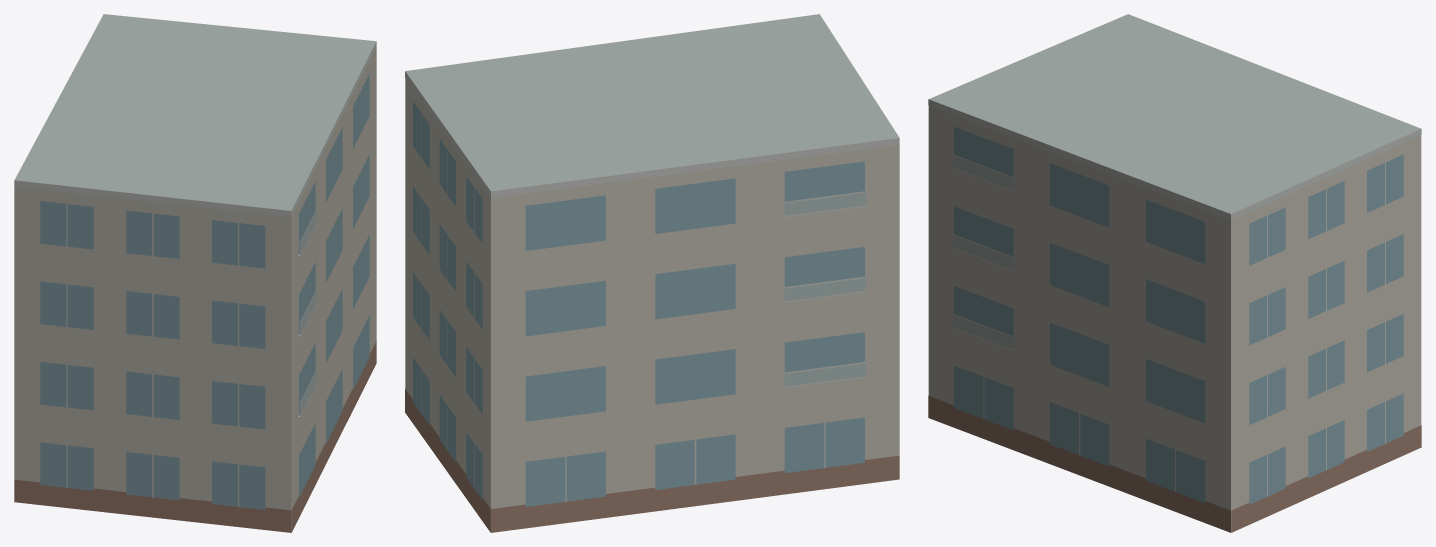
The model's file is survey-upis-32891001.glb.
3 views of the same model, side by side, from view 1: azimuth 30°, elevation 25°; view 2: azimuth 150°, elevation 25°; view 3: azimuth 270°, elevation 25° (orthographic). The views are drawn at different scales.
Parts seen in each view (by area): view 1: survey-upis-32891001.tmp; view 2: survey-upis-32891001.tmp; view 3: survey-upis-32891001.tmp.
Part boxes in pixels (x1,y1,x2,y2): survey-upis-32891001.tmp: (14, 14, 376, 532); survey-upis-32891001.tmp: (405, 14, 899, 532); survey-upis-32891001.tmp: (928, 14, 1421, 532).
Bounding box in the file's own units: 16.71 × 12.4 × 17.39.
